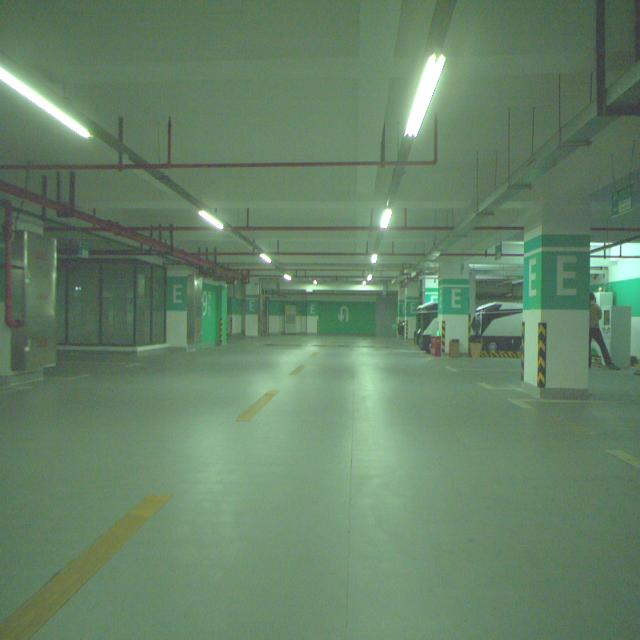pillar: (521, 202, 589, 398), (439, 261, 469, 358)
